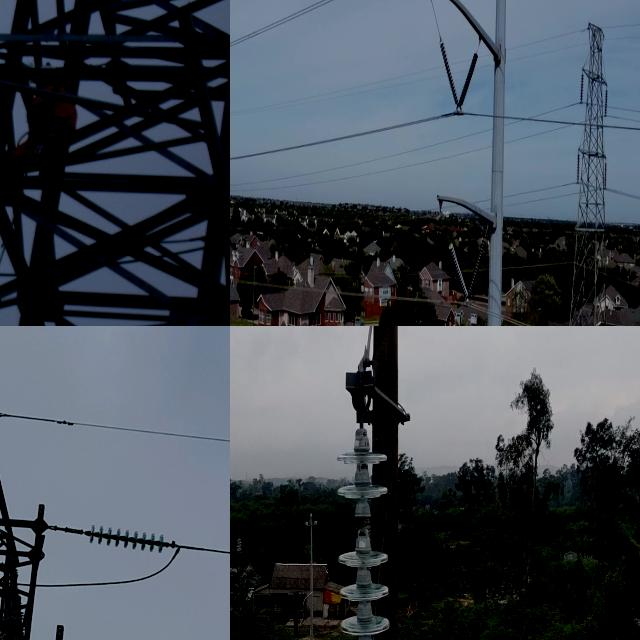杆塔: (0, 0, 230, 326), (0, 392, 102, 640), (561, 19, 616, 326)
正常电缆: (230, 104, 455, 165), (504, 310, 549, 326), (618, 186, 640, 208), (623, 273, 640, 292), (622, 122, 640, 137)
正常绝缘子: (329, 408, 400, 640), (445, 233, 491, 310), (438, 38, 484, 113), (88, 520, 171, 554), (602, 78, 611, 122), (578, 67, 586, 113), (601, 155, 610, 193), (574, 147, 582, 188)
绝缘子破损: (353, 506, 372, 544)
